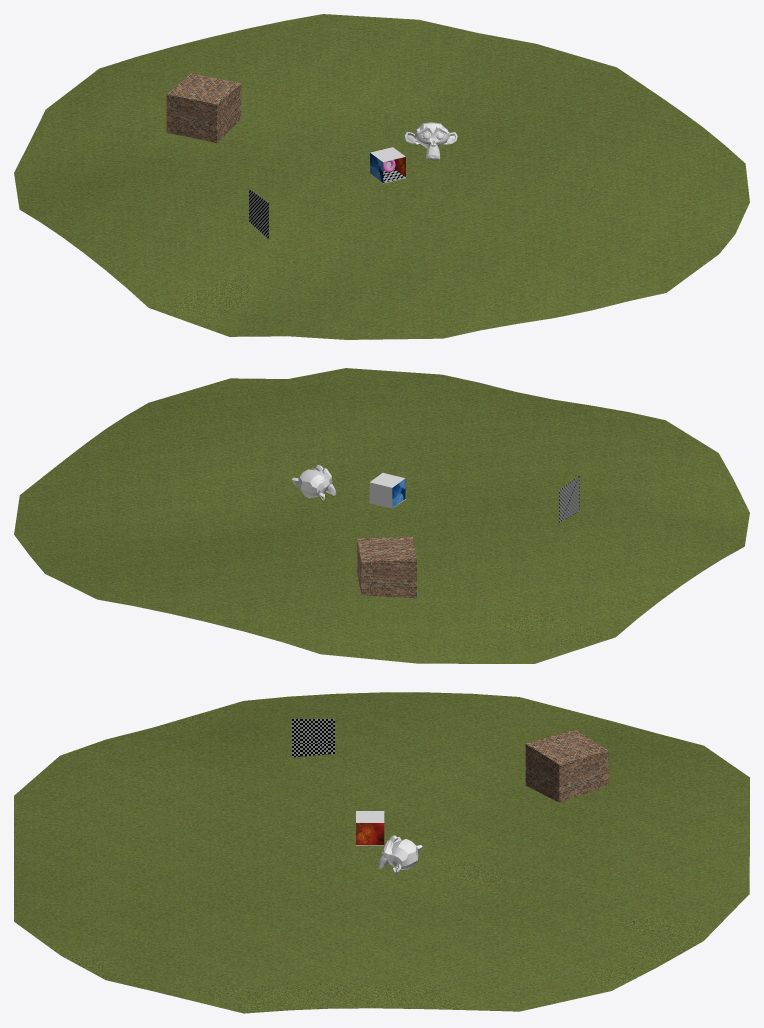
File: bigscene.gltf
The picture shows the model from 3 angles, top to bottom: view 1: azimuth 30°, elevation 25°; view 2: azimuth 150°, elevation 25°; view 3: azimuth 270°, elevation 25°; orthographic projection. The views are drawn at different scales.
Parts seen in each view (by area): view 1: Plane, Cube.001, Suzanne, Cube, Plane.001; view 2: Plane, Cube.001, Cube, Suzanne, Plane.001; view 3: Plane, Cube.001, Plane.001, Suzanne, Cube.
Part boxes in pixels (x1,y1,x2,y2): Plane: (14,14,749,339); Cube.001: (166,73,241,143); Suzanne: (404,122,457,160); Cube: (370,147,405,183); Plane.001: (249,189,268,238); Plane: (14,368,749,663); Cube.001: (357,536,416,598); Cube: (369,473,405,508); Suzanne: (291,465,335,500); Plane.001: (559,476,579,522); Plane: (14,692,749,1013); Cube.001: (525,729,608,802); Plane.001: (292,719,334,757); Suzanne: (378,835,422,875); Cube: (356,811,384,845).
Bounding box in the file's own units: 98.34 × 10.2 × 98.21.
Materials: 9 (6 with a texture image).
